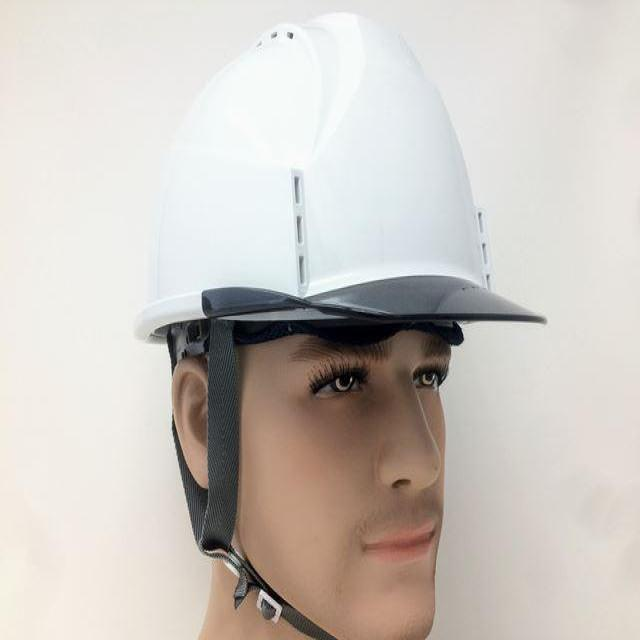helmet: (131, 11, 548, 345)
